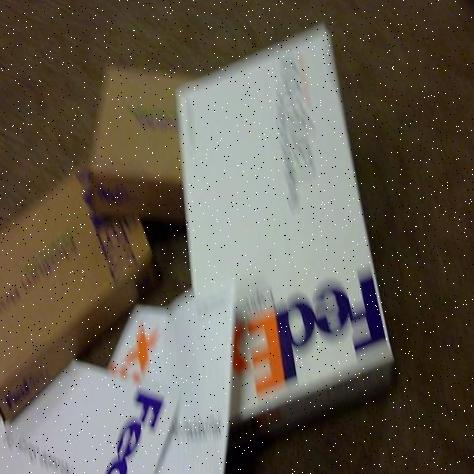Amazon: (163, 64, 403, 397), (0, 174, 141, 403), (0, 367, 165, 474)
